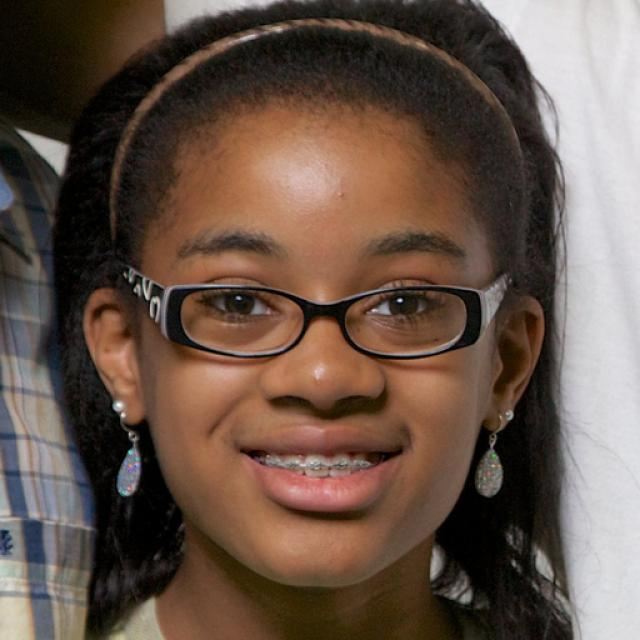happy: (140, 89, 495, 586)
